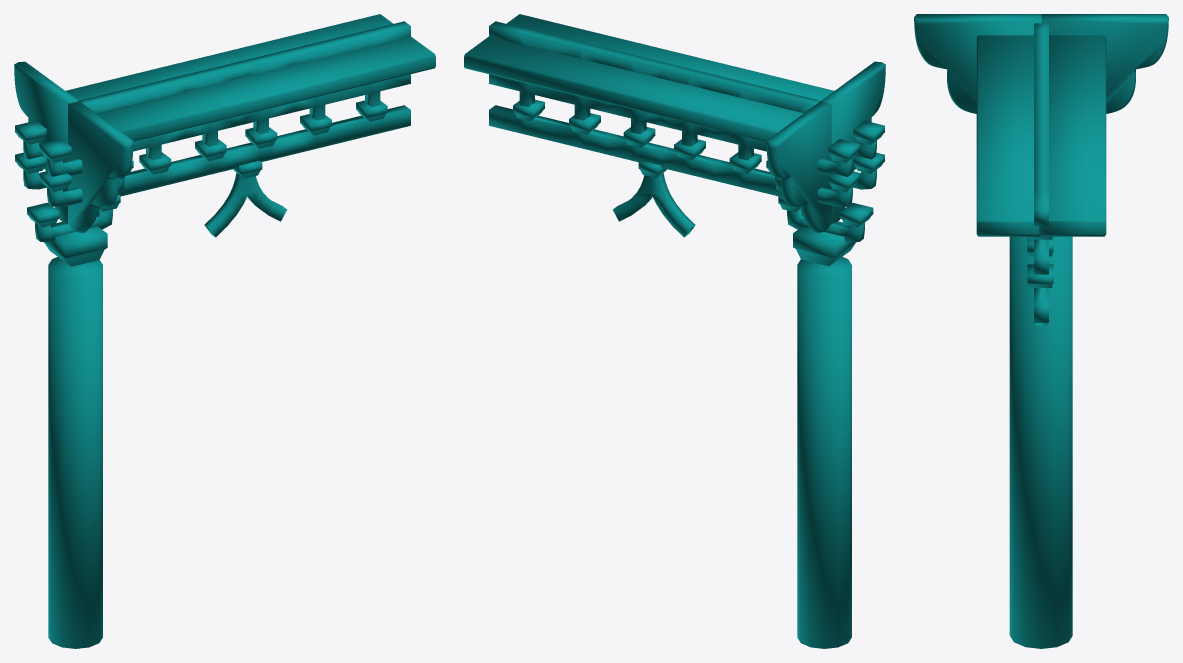
The model's file is 황룡사_리소스_기둥2.fbx.
3 views of the same model, side by side, from view 1: azimuth 30°, elevation 25°; view 2: azimuth 150°, elevation 25°; view 3: azimuth 270°, elevation 25° (orthographic). The views are drawn at different scales.
Visible parts, largest first — view 1: dsaw004; view 2: dsaw004; view 3: dsaw004.
Boxes of the visible parts, x1,y1,x2,y2 form: dsaw004: [14, 14, 435, 648]; dsaw004: [464, 14, 885, 648]; dsaw004: [914, 14, 1168, 648].
Size of the model in its own units: 267 by 364 by 136.
